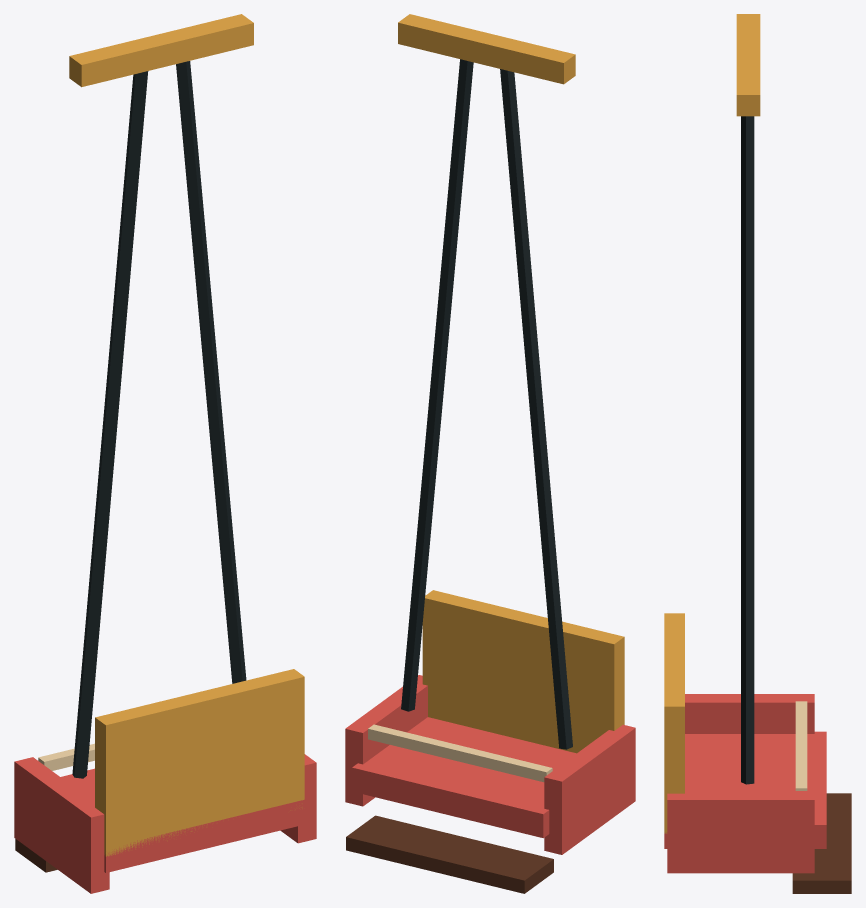
Rendered from ParkParkSwingSeat.obj.
3 views of the same model, side by side, from view 1: azimuth 30°, elevation 25°; view 2: azimuth 150°, elevation 25°; view 3: azimuth 270°, elevation 25° (orthographic). The views are drawn at different scales.
Visible parts, largest first — view 1: ParkParkSwingSeat; view 2: ParkParkSwingSeat; view 3: ParkParkSwingSeat.
Part boxes in pixels (<box>): ParkParkSwingSeat: <box>14,14,316,893</box>; ParkParkSwingSeat: <box>345,14,635,893</box>; ParkParkSwingSeat: <box>664,14,851,893</box>.
Bounding box in the file's own units: 1.7 × 5.96 × 1.27.
